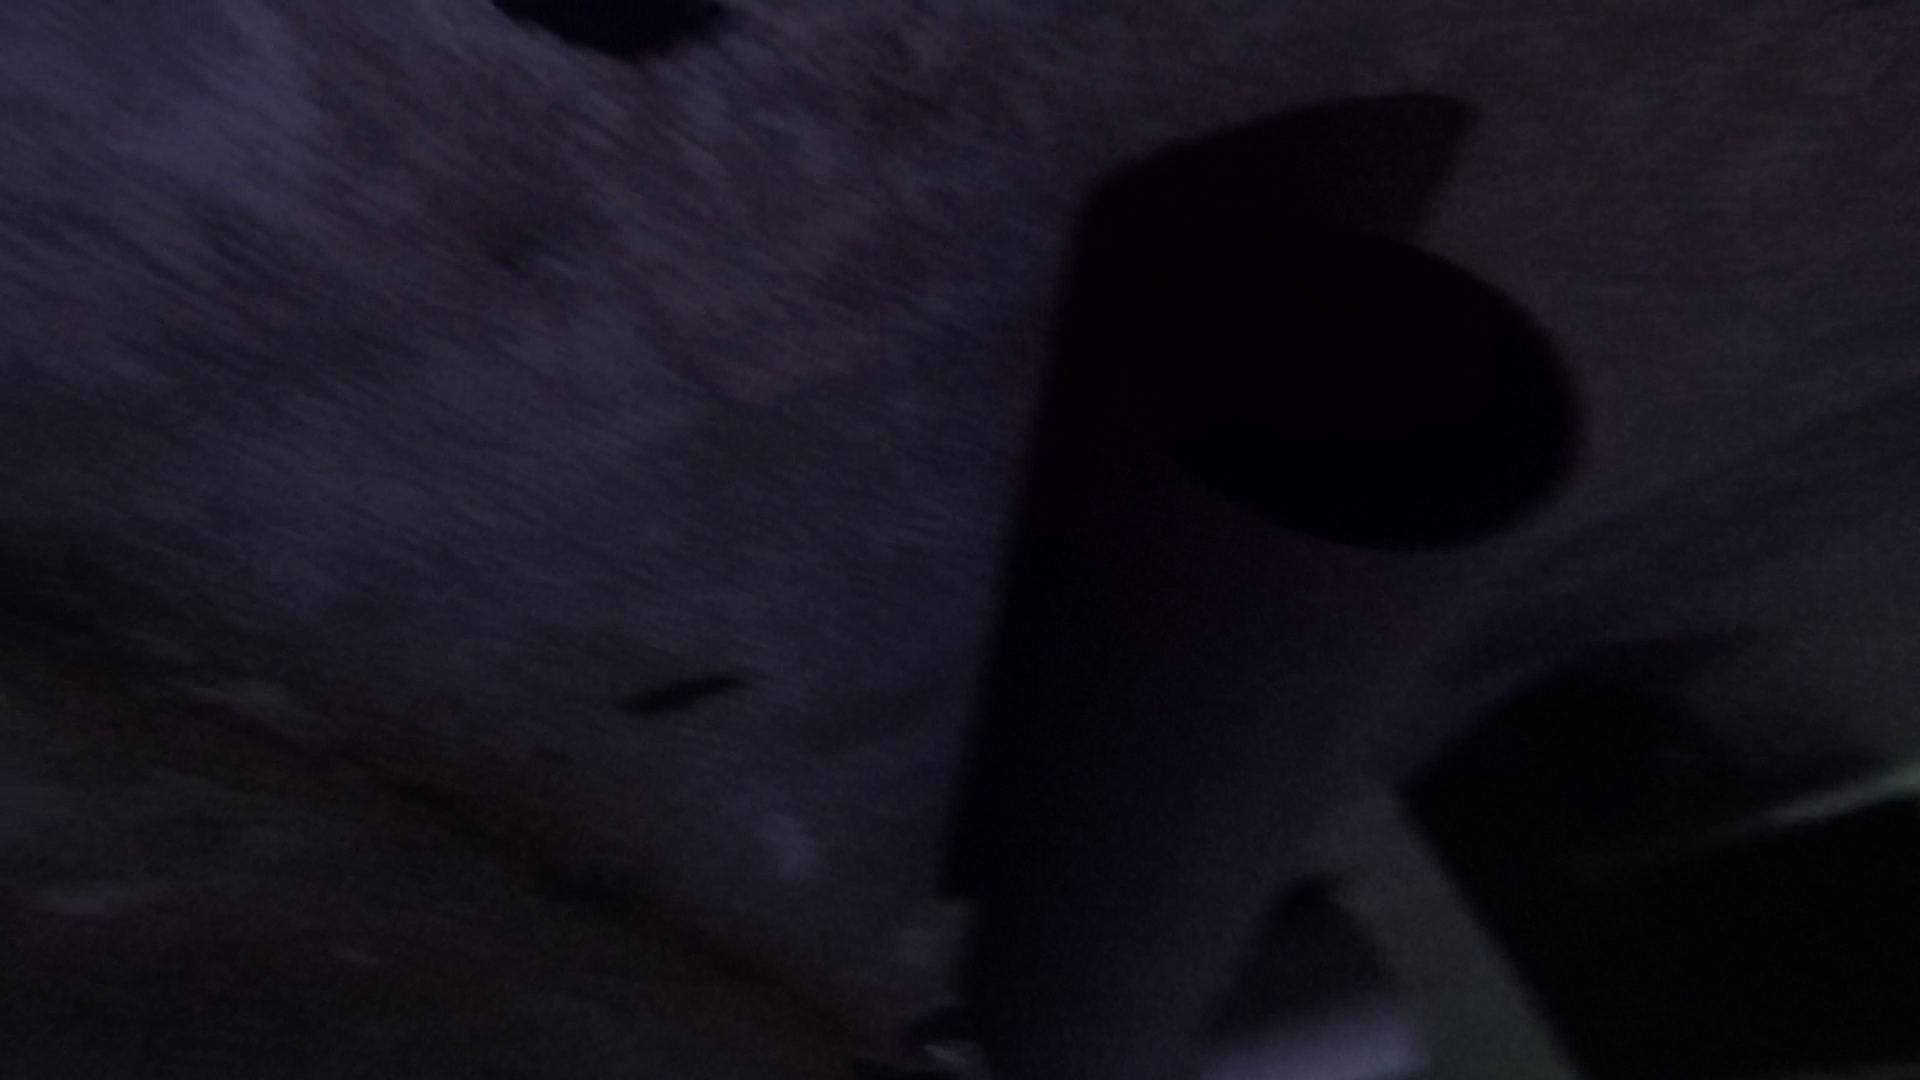pipe: (955, 225, 1592, 1080), (1497, 439, 1917, 901), (1207, 975, 1436, 1080)
